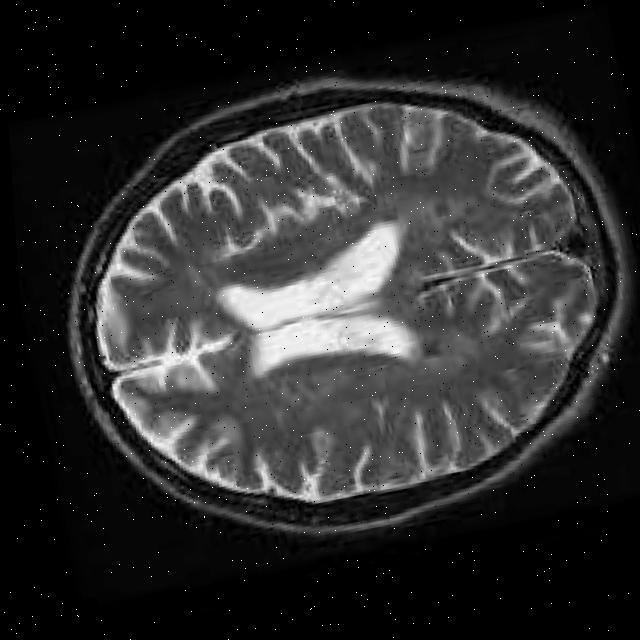NoTumor: (49, 59, 640, 551)
